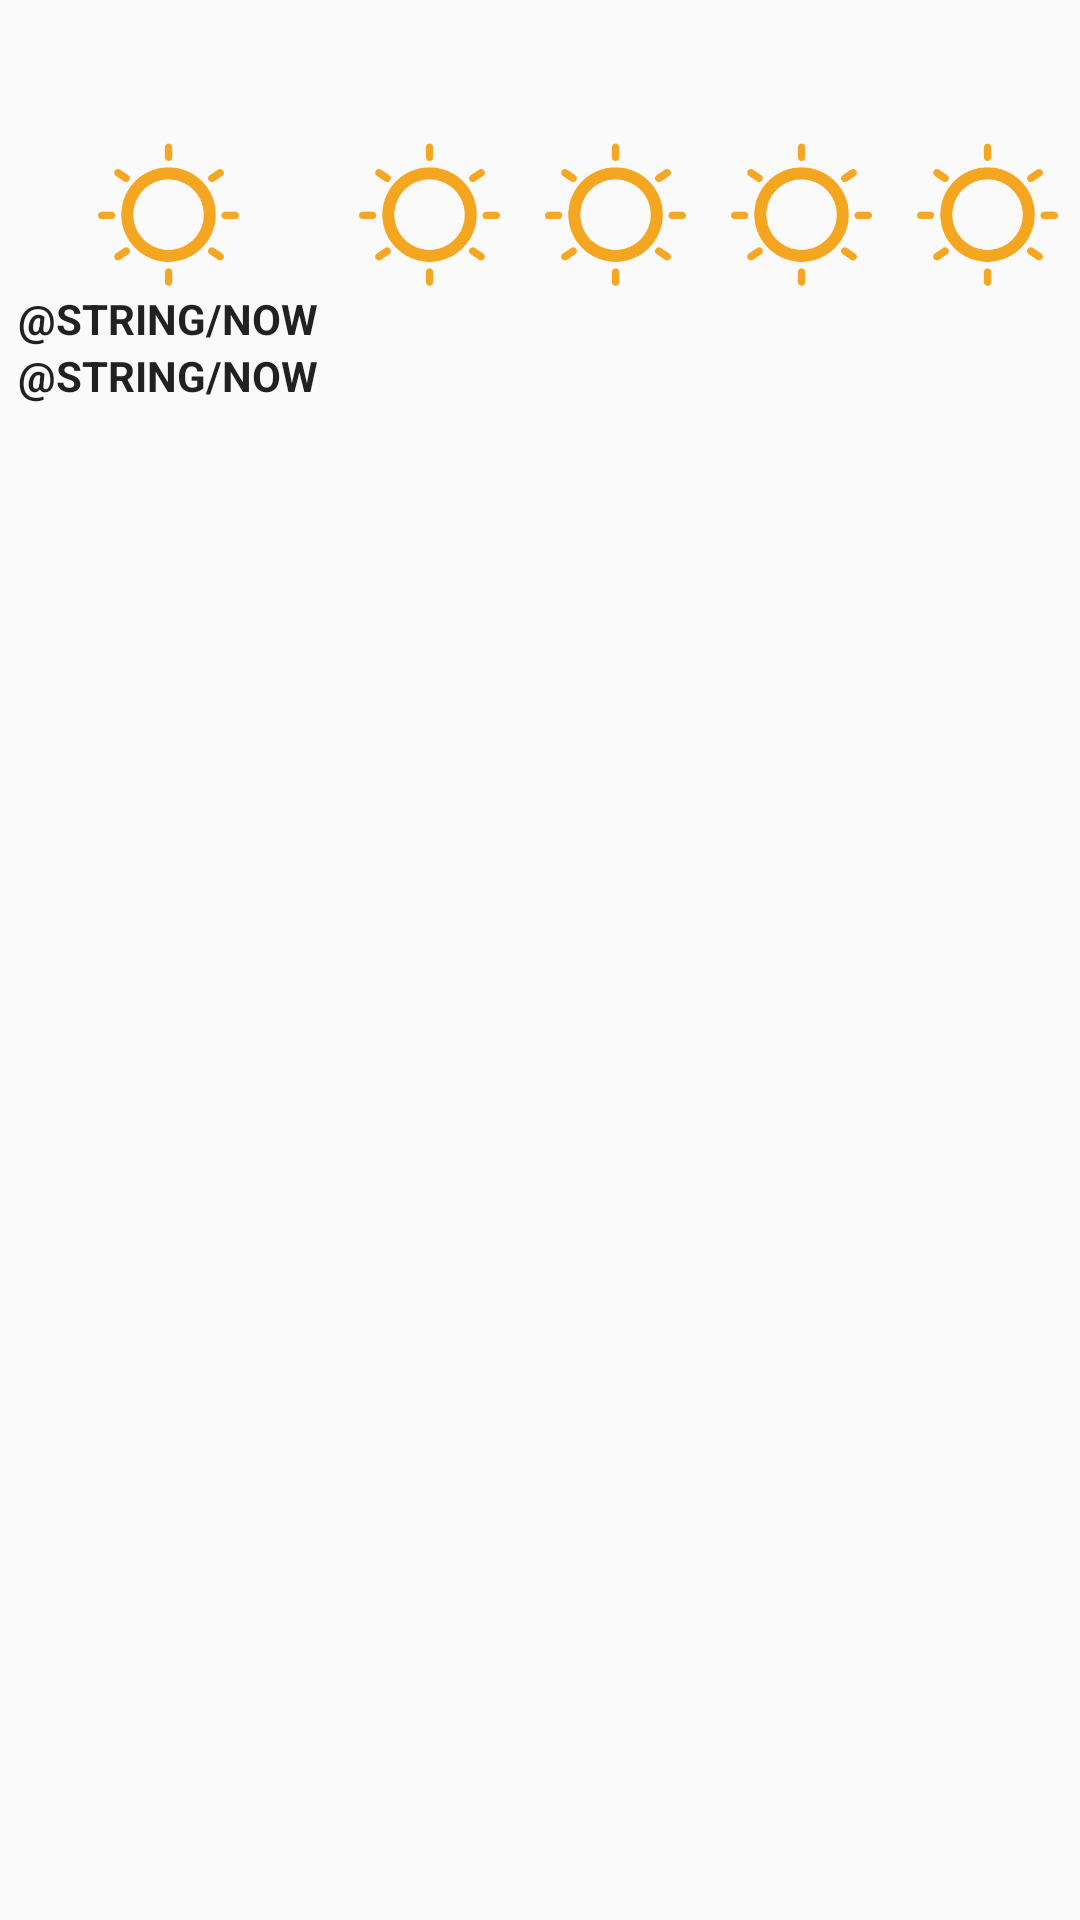

Icons on this 1080×1920 Android screen, each with its box as (x1, y1, x2, y2):
sunny: (98, 143, 239, 286), (359, 143, 500, 286), (545, 143, 686, 286), (731, 143, 872, 286), (917, 143, 1058, 286)
